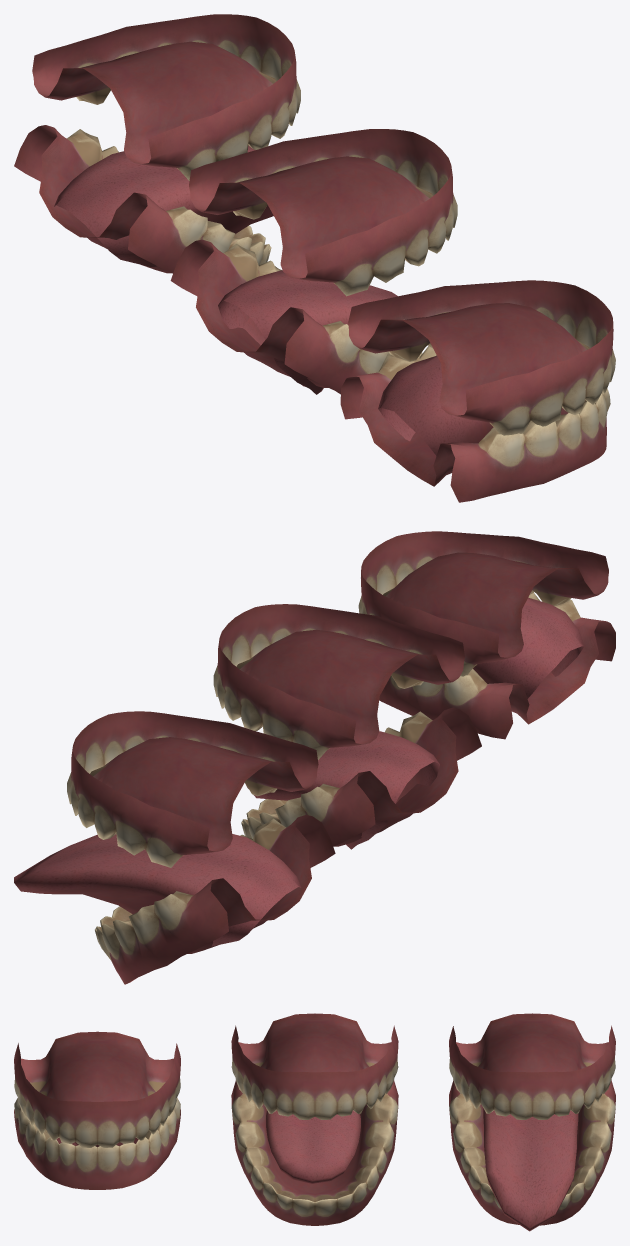
File: KAE_Mouth.fbx
The picture shows the model from 3 angles, top to bottom: view 1: azimuth 30°, elevation 25°; view 2: azimuth 150°, elevation 25°; view 3: azimuth 270°, elevation 25°; orthographic projection. The views are drawn at different scales.
Visible parts, largest first — view 1: Plane.006, Plane.007, Plane.002, Plane.003, Plane.005, Plane.008, Plane.009, Plane.001, Plane.004; view 2: Plane.007, Plane.006, Plane.002, Plane.009, Plane.008, Plane.005, Plane.003, Plane.001, Plane.004; view 3: Plane.002, Plane.007, Plane.006, Plane.005, Plane.009, Plane.008, Plane.003, Plane.001.
Boxes of the visible parts, box(x1,y1,x2,y2) form: Plane.006: box(189, 129, 457, 296); Plane.007: box(32, 14, 300, 180); Plane.002: box(348, 280, 615, 435); Plane.003: box(340, 346, 610, 502); Plane.005: box(170, 239, 422, 394); Plane.008: box(14, 125, 271, 273); Plane.009: box(54, 145, 273, 266); Plane.001: box(218, 270, 397, 394); Plane.004: box(378, 355, 493, 455); Plane.007: box(67, 711, 318, 867); Plane.006: box(213, 604, 464, 759); Plane.002: box(358, 531, 608, 676); Plane.009: box(14, 834, 301, 946); Plane.008: box(95, 815, 335, 984); Plane.005: box(241, 707, 481, 846); Plane.003: box(379, 593, 615, 739); Plane.001: box(245, 731, 439, 849); Plane.004: box(473, 597, 584, 698); Plane.002: box(14, 1031, 180, 1147); Plane.007: box(449, 1013, 615, 1119); Plane.006: box(231, 1013, 398, 1119); Plane.005: box(231, 1080, 398, 1225); Plane.009: box(483, 1108, 578, 1231); Plane.008: box(449, 1080, 615, 1225); Plane.003: box(14, 1097, 180, 1189); Plane.001: box(266, 1110, 360, 1183).
Size of the model in its own units: 1952 by 1601 by 4983.
